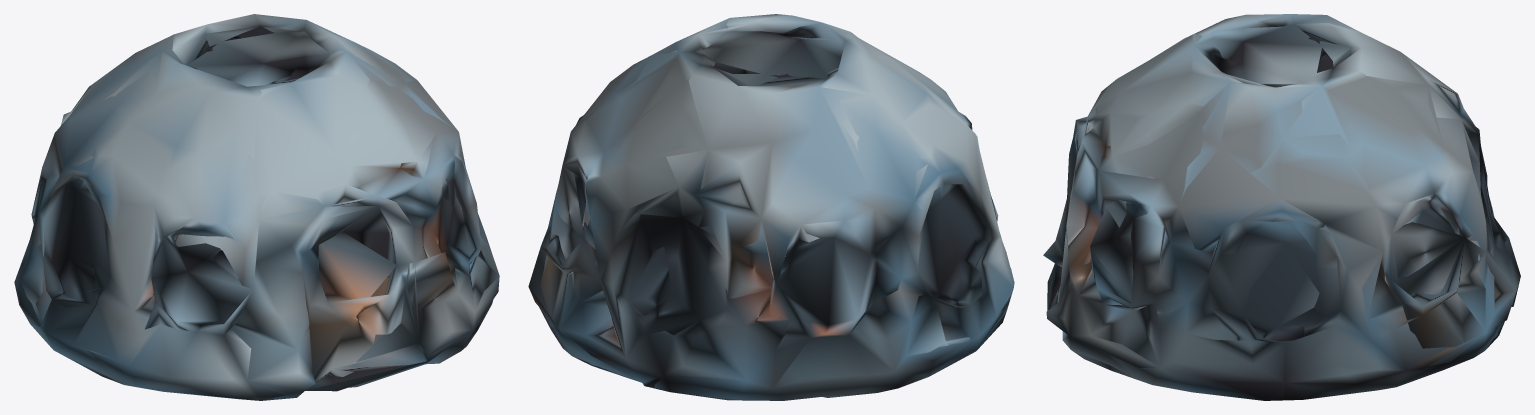
Rendered from gen3d-habitat-dome-lod0.glb.
3 views of the same model, side by side, from view 1: azimuth 30°, elevation 25°; view 2: azimuth 150°, elevation 25°; view 3: azimuth 270°, elevation 25° (orthographic).
Visible parts, largest first — view 1: part_0; view 2: part_0; view 3: part_0.
Boxes of the visible parts, x1,y1,x2,y2 form: part_0: (14, 14, 499, 400); part_0: (528, 14, 1014, 400); part_0: (1043, 14, 1520, 400).
Bounding box in the file's own units: 1.71 × 0.9934 × 1.68.
